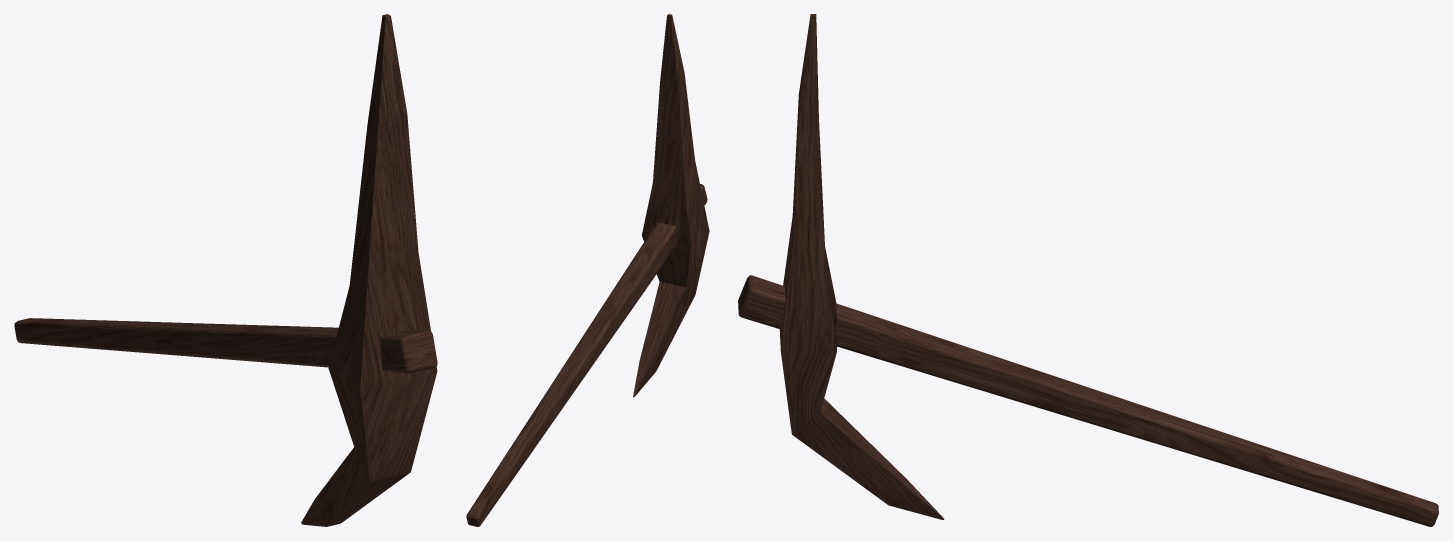
Rendered from plough.fbx.
3 views of the same model, side by side, from view 1: azimuth 30°, elevation 25°; view 2: azimuth 150°, elevation 25°; view 3: azimuth 270°, elevation 25° (orthographic). The views are drawn at different scales.
Visible parts, largest first — view 1: pCube5, pCube1; view 2: pCube5, pCube1; view 3: pCube1, pCube5.
Part boxes in pixels (x1,y1,x2,y2): pCube5: (301, 14, 437, 526); pCube1: (14, 318, 437, 373); pCube5: (633, 14, 709, 396); pCube1: (466, 184, 707, 526); pCube1: (738, 275, 1438, 526); pCube5: (779, 14, 944, 519).
Bounding box in the file's own units: 26.84 × 183 × 224.
1 material, 1 textured.
